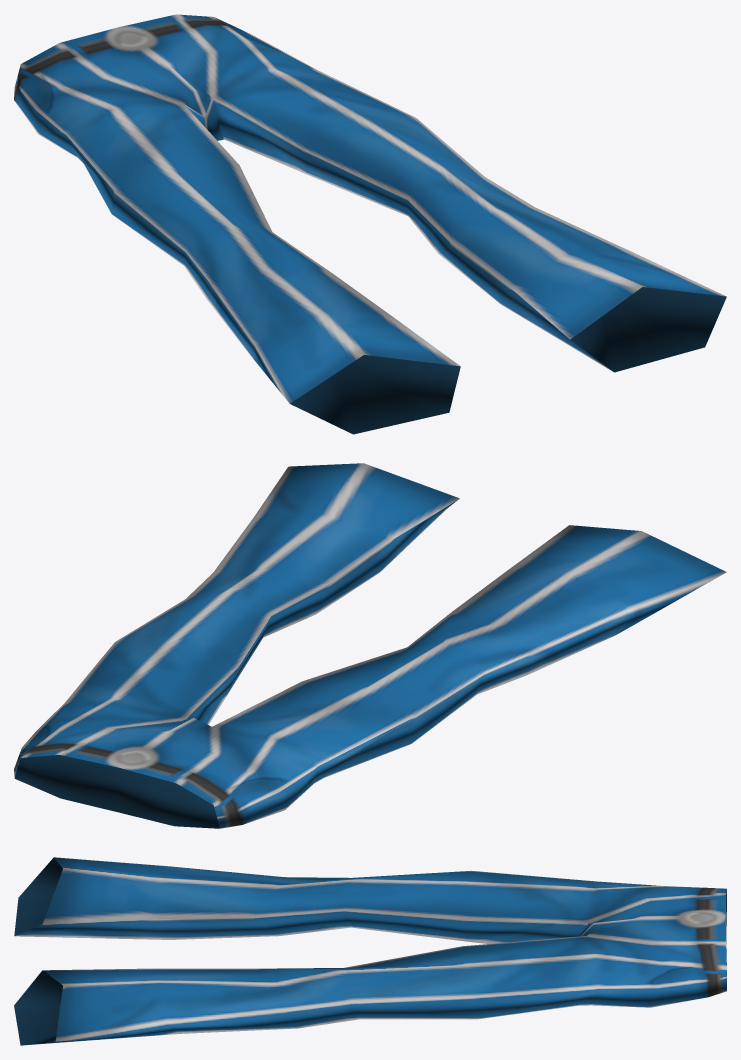
The model's file is Stani_5_Ground.fbx.
The picture shows the model from 3 angles, top to bottom: view 1: azimuth 30°, elevation 25°; view 2: azimuth 150°, elevation 25°; view 3: azimuth 270°, elevation 25°; orthographic projection. The views are drawn at different scales.
Parts seen in each view (by area): view 1: Body.019; view 2: Body.019; view 3: Body.019.
Part boxes in pixels (x1,y1,x2,y2): Body.019: [14, 14, 726, 434]; Body.019: [14, 463, 726, 828]; Body.019: [14, 857, 726, 1045].
Size of the model in its own units: 0.3359 by 0.0462 by 0.5505.
